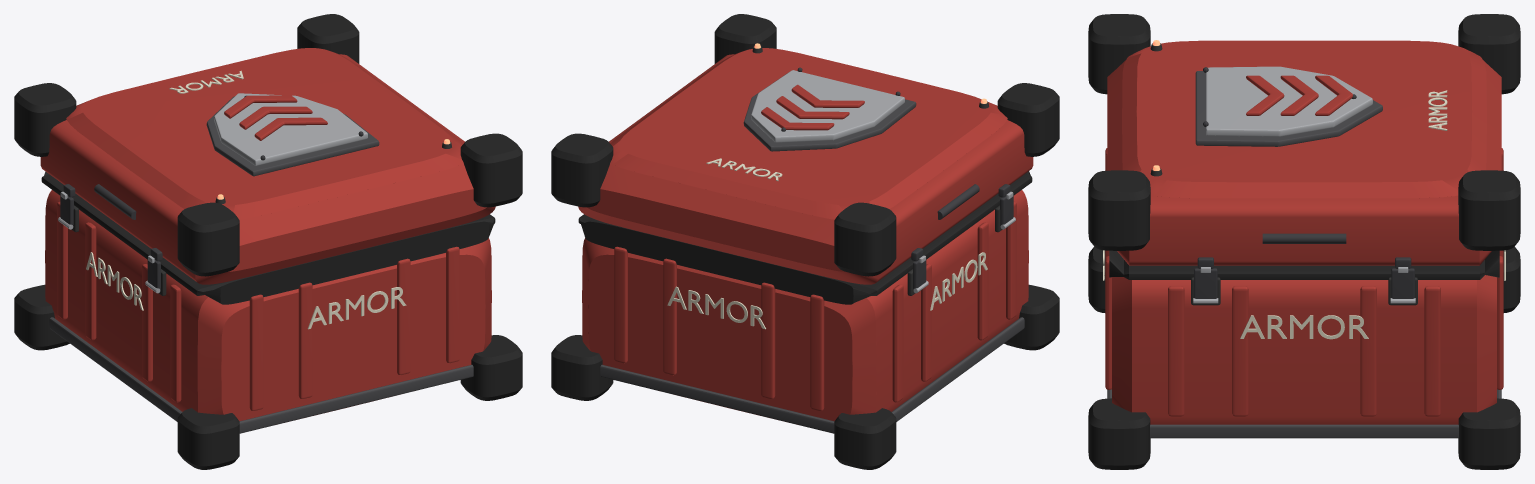
File: crate_armor.glb
3 renders of one model, left to right at view 1: azimuth 30°, elevation 25°; view 2: azimuth 150°, elevation 25°; view 3: azimuth 270°, elevation 25°, orthographic. The views are drawn at different scales.
Parts seen in each view (by area): view 1: Body; view 2: Body; view 3: Body.
Part boxes in pixels (x1,y1,x2,y2): Body: (14, 14, 522, 469); Body: (551, 14, 1059, 469); Body: (1088, 14, 1520, 469).
Bounding box in the file's own units: 0.876 × 0.642 × 0.876.
